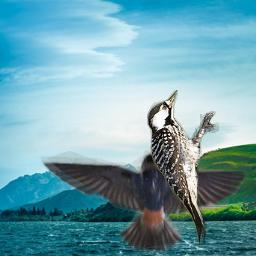Swallow: (36, 150, 250, 253)
Woodpecker: (147, 90, 219, 246)
